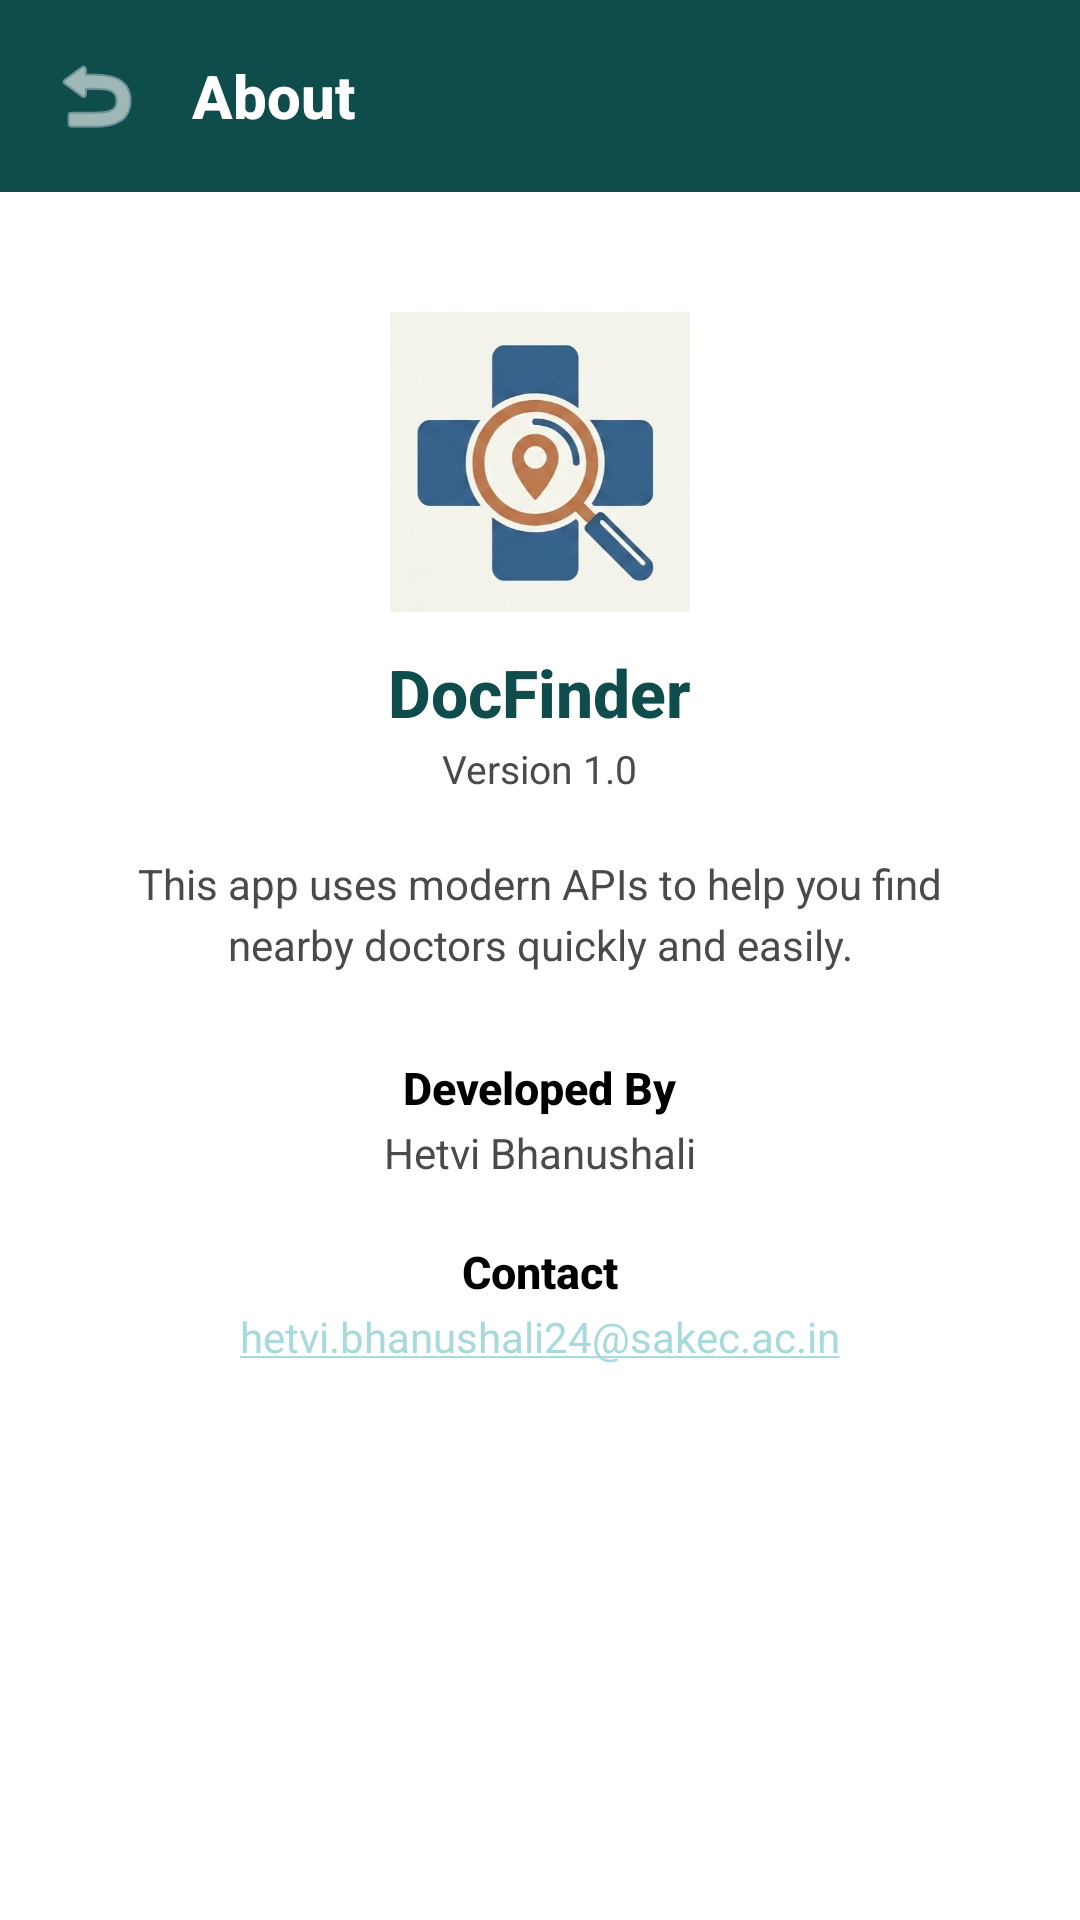

Screen size 1080*1920. Icon name, then its center in pixels as (x,y):
revert: (97,96)
